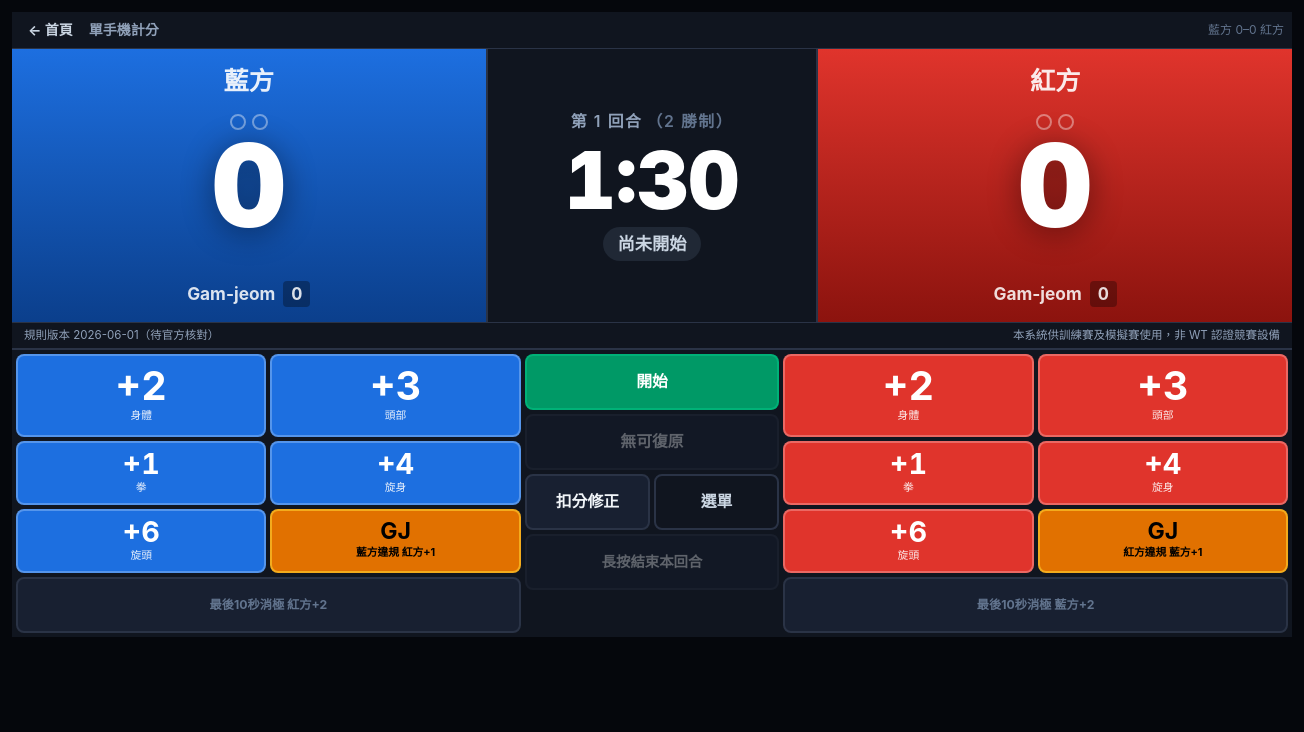
Scenario: 單機計分頁：修正與復原 › 修正模式可手動取消，且修正動作會留下可復原的紀錄
Click the button "開始" at [652, 382], box top-left (525, 354), bottom-right (779, 410)
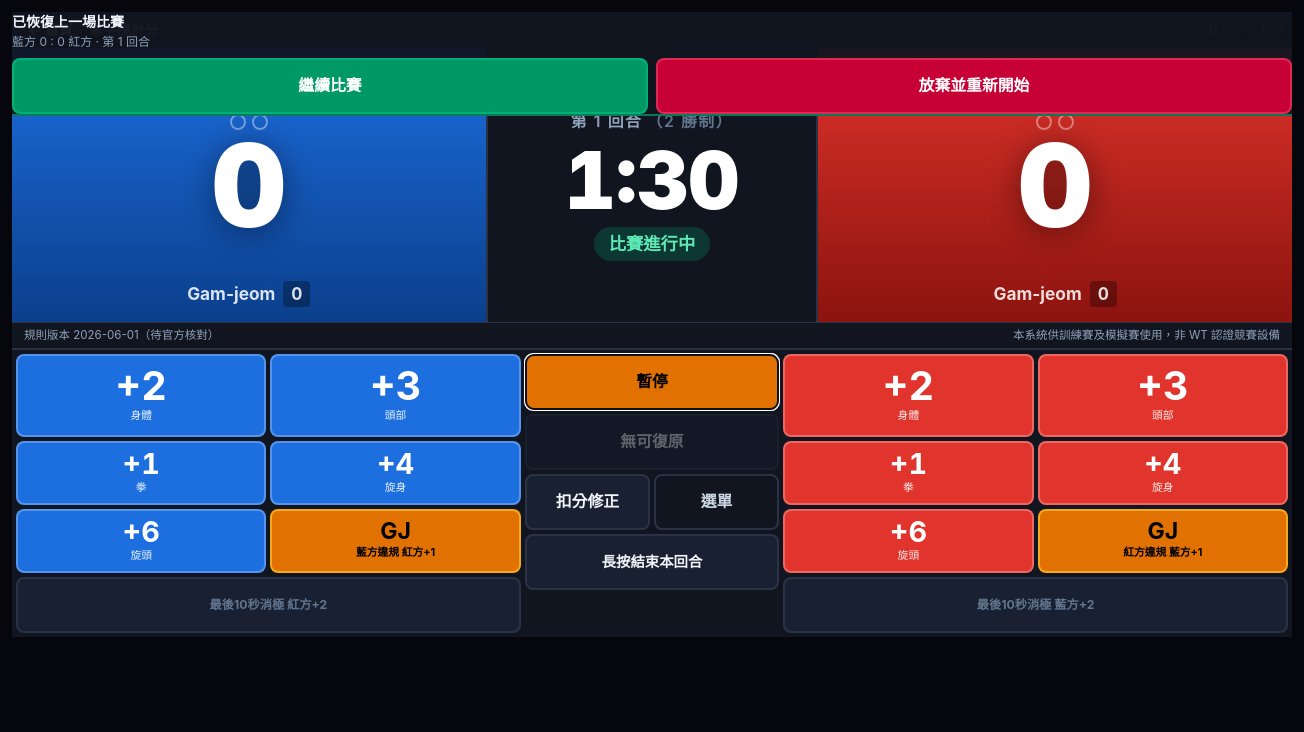
Click the button "扣分修正" at [587, 502], box top-left (525, 474), bottom-right (650, 530)
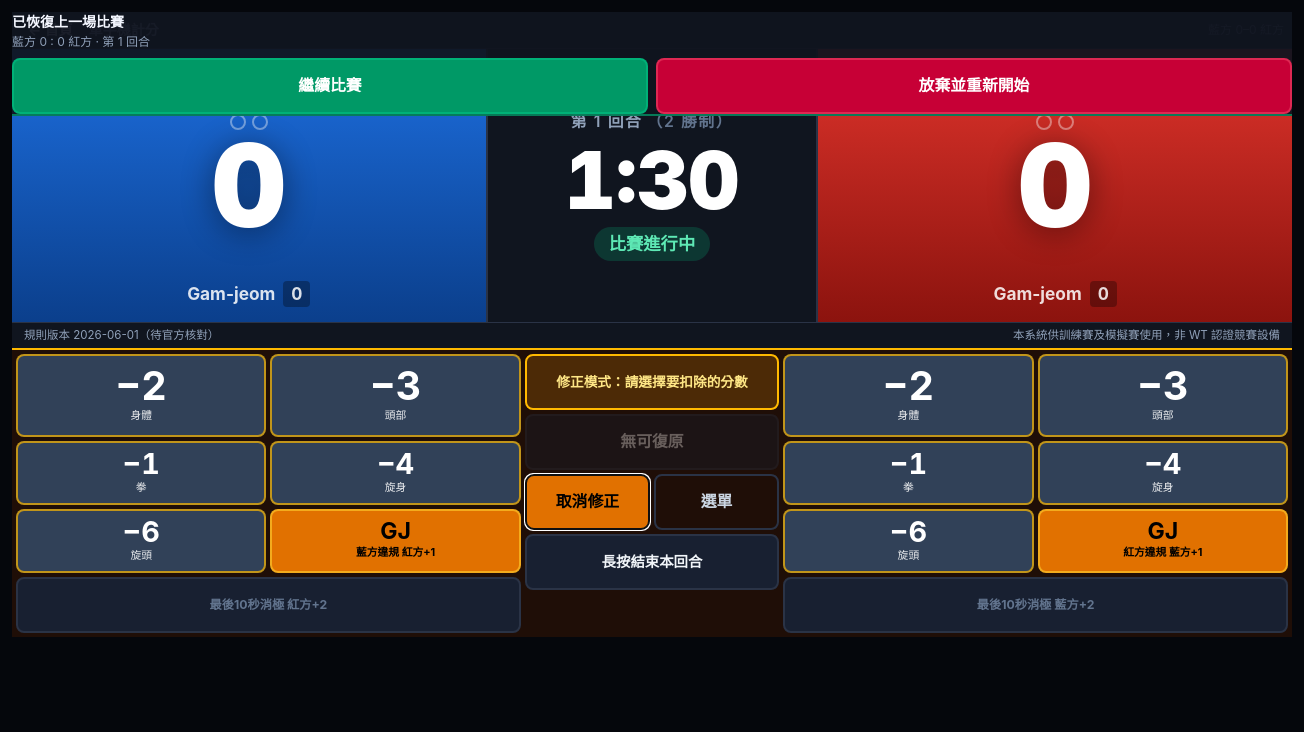
Click the button "取消修正" at [587, 502], box top-left (525, 474), bottom-right (650, 530)
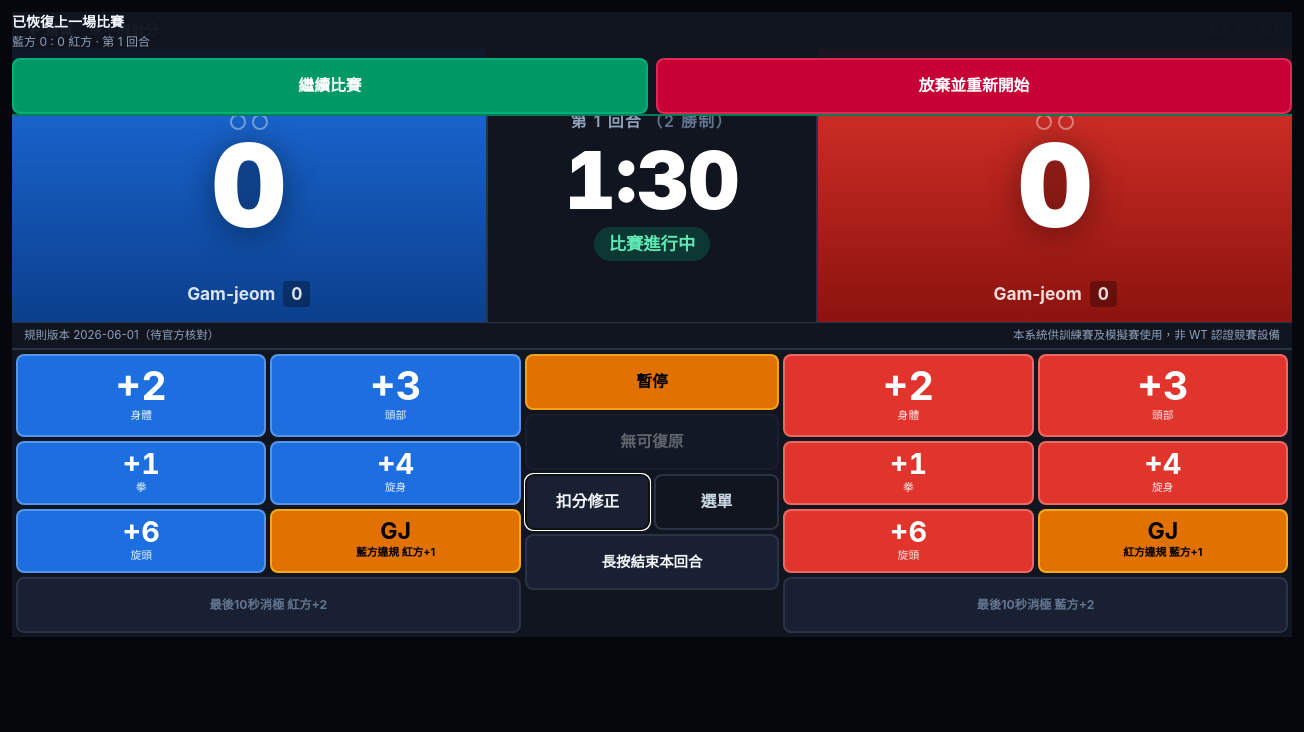
Expected: the text "修正模式：請選擇要扣除的分數" is gone
Click the button with aria-label "藍方 身體踢擊 得 2 分" at [141, 395], box top-left (16, 354), bottom-right (266, 437)
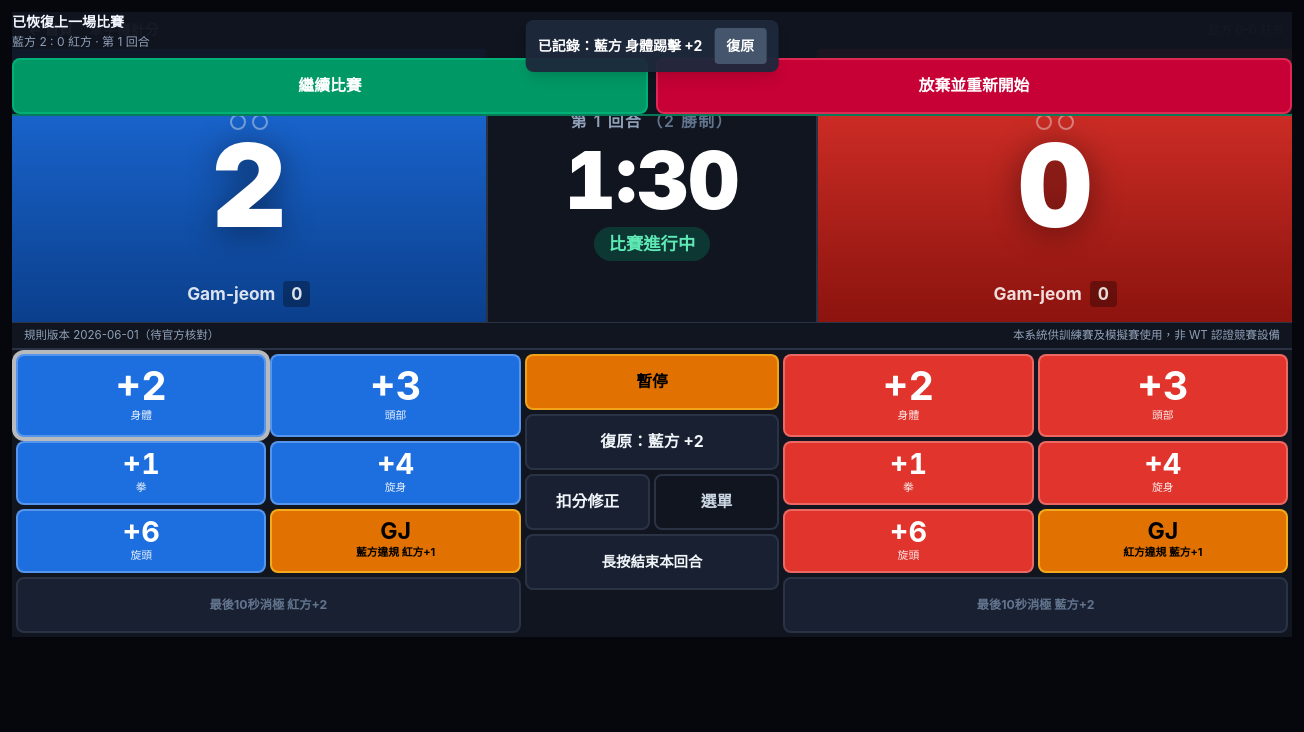
Click the button "扣分修正" at [587, 502], box top-left (525, 474), bottom-right (650, 530)
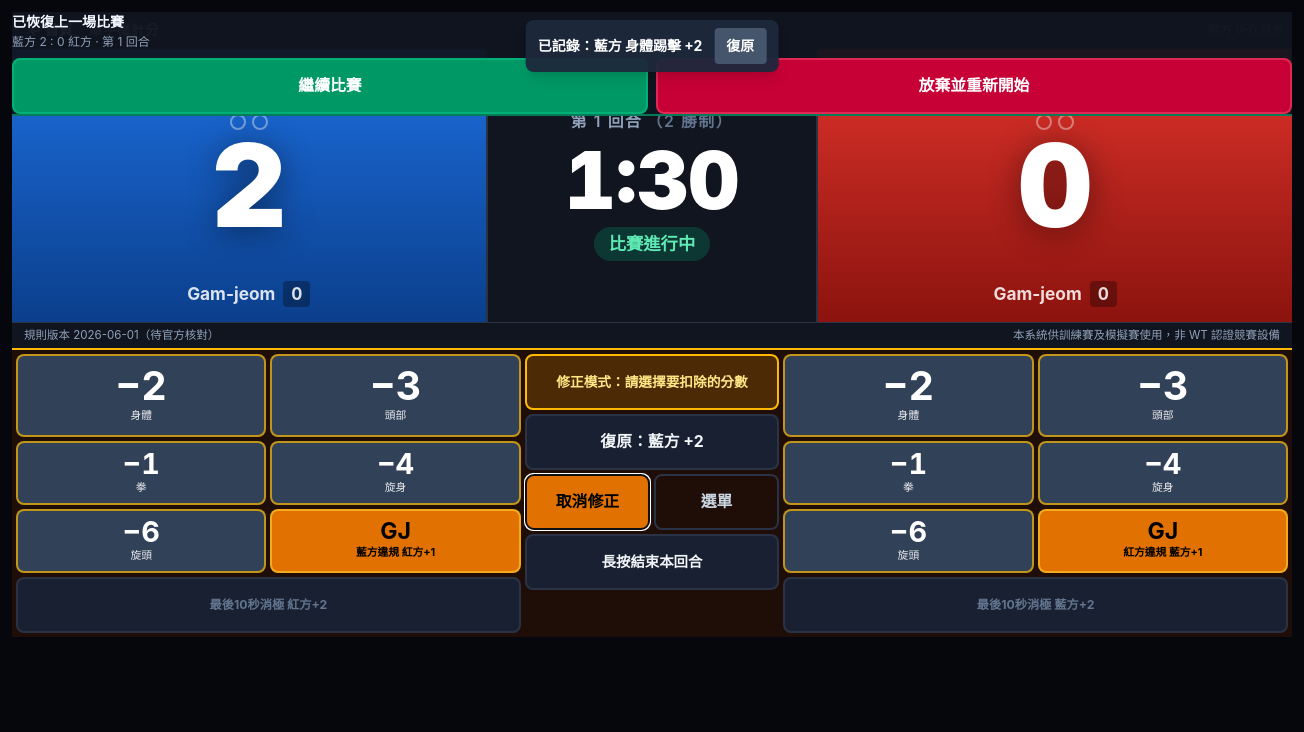
Click the button with aria-label "藍方 身體踢擊 扣除 2 分" at [141, 395], box top-left (16, 354), bottom-right (266, 437)
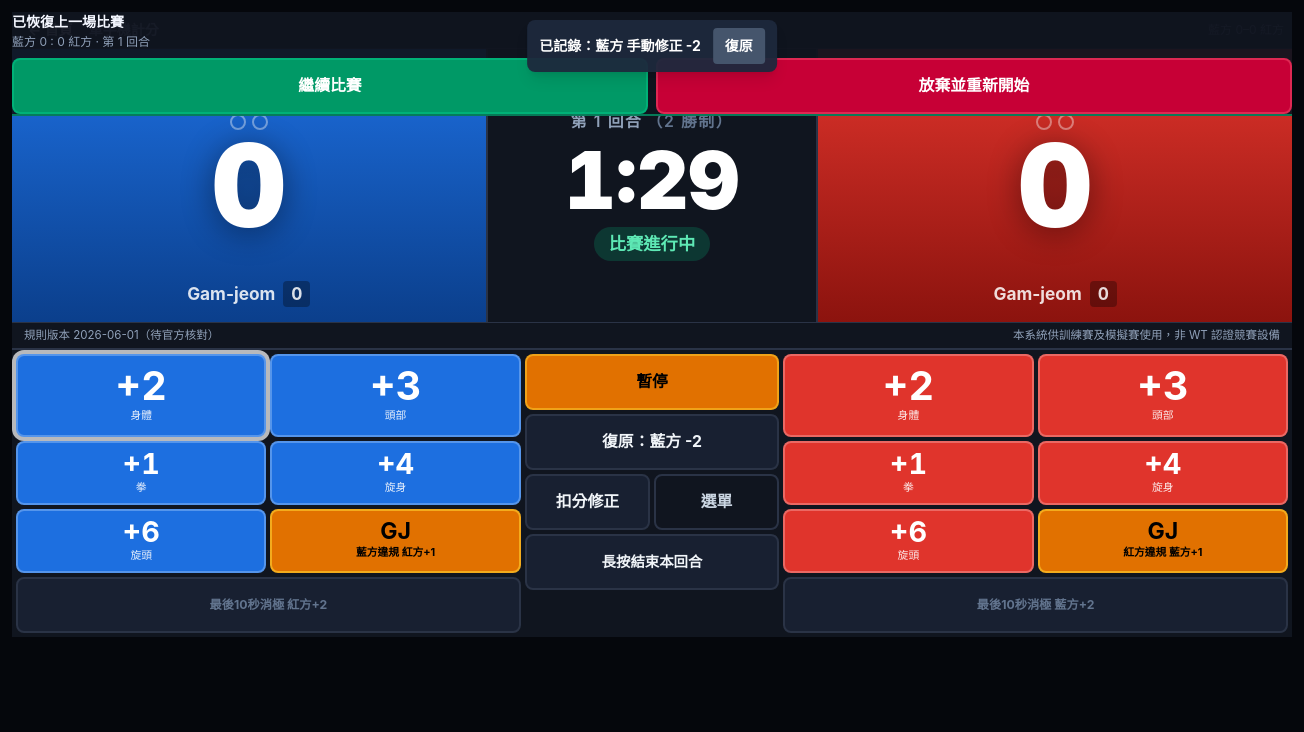
Expected: the button with aria-label "復原 藍方 手動修正" is shown, top-left (525, 414), bottom-right (779, 470)
